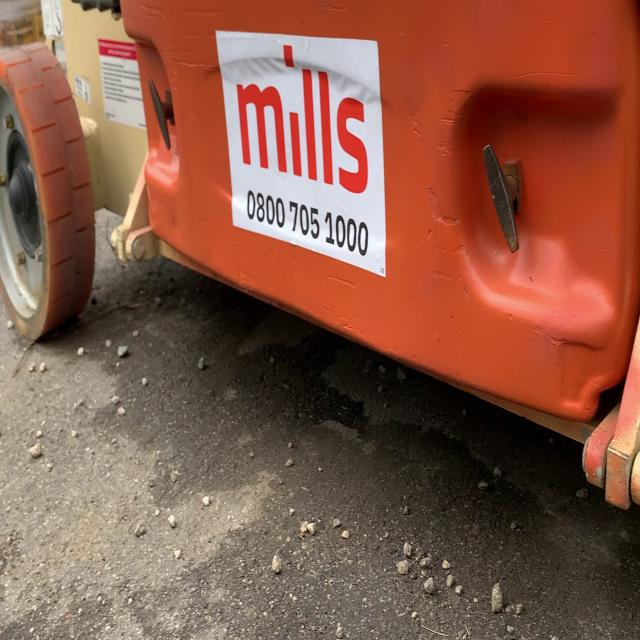Adesivos: (215, 28, 387, 281)
